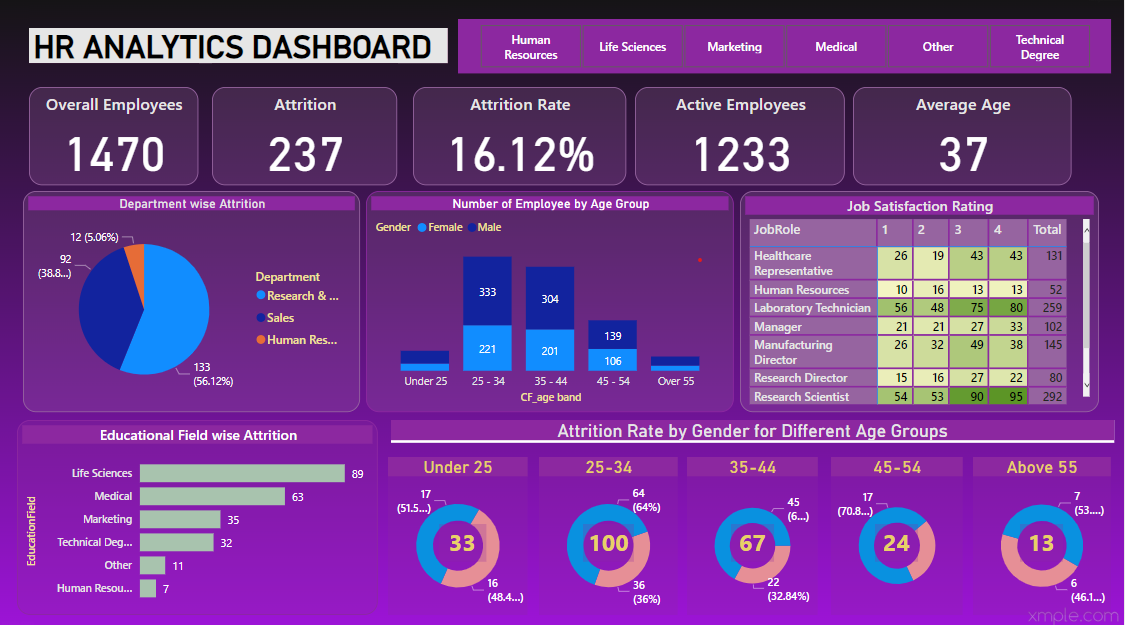

The page's visual inventory and layout, read from the dashboard file:
{"tool":"powerbi","page":{"name":"Page 1","canvas":[1280,720],"ordinal":0},"visuals":[{"type":"card","title":"Overall Employees","fields":{"Values":["Sum(WA_Fn-UseC_-HR-Employee-Attriti.EmployeeCount)"]},"box":[33,104.8,192.5,111.6],"z":0},{"type":"card","title":"Attrition","fields":{"Values":["Sum(WA_Fn-UseC_-HR-Employee-Attriti.Attrition Count)"]},"box":[241.5,104.8,210.8,111.6],"z":1000},{"type":"card","title":"Attrition Rate","fields":{"Values":["WA_Fn-UseC_-HR-Employee-Attriti.Attrition Rate"]},"box":[470.5,104.8,242.7,111.6],"z":2000},{"type":"card","title":"Active Employees","fields":{"Values":["WA_Fn-UseC_-HR-Employee-Attriti.Active Employees"]},"box":[723.4,104.8,239.2,111.6],"z":3000},{"type":"card","title":"Average Age","fields":{"Values":["Avg(WA_Fn-UseC_-HR-Employee-Attriti.Age)"]},"box":[971.8,104.8,249.5,111.6],"z":4000},{"type":"pieChart","title":"Department wise Attrition","fields":{"Category":["WA_Fn-UseC_-HR-Employee-Attriti.Department"],"Y":["Sum(WA_Fn-UseC_-HR-Employee-Attriti.Attrition Count)"]},"box":[26.2,223.3,383.9,251.8],"z":5000},{"type":"columnChart","title":"Number of Employee by Age Group","fields":{"Y":["Sum(WA_Fn-UseC_-HR-Employee-Attriti.EmployeeCount)"],"Series":["WA_Fn-UseC_-HR-Employee-Attriti.Gender"],"Category":["WA_Fn-UseC_-HR-Employee-Attriti.CF_age band"]},"box":[417,223.3,419.2,251.8],"z":6000},{"type":"pivotTable","title":"Job Satisfaction Rating","fields":{"Rows":["WA_Fn-UseC_-HR-Employee-Attriti.JobRole"],"Columns":["WA_Fn-UseC_-HR-Employee-Attriti.JobSatisfaction"],"Values":["Sum(WA_Fn-UseC_-HR-Employee-Attriti.EmployeeCount)"]},"box":[843,223.3,409,251.8],"z":7000},{"type":"barChart","title":"Educational Field wise Attrition","fields":{"Category":["WA_Fn-UseC_-HR-Employee-Attriti.EducationField"],"Y":["Sum(WA_Fn-UseC_-HR-Employee-Attriti.Attrition Count)"]},"box":[19.4,484.2,411.3,222.2],"z":8000},{"type":"donutChart","title":"Under 25","fields":{"Category":["WA_Fn-UseC_-HR-Employee-Attriti.Gender"],"Y":["Sum(WA_Fn-UseC_-HR-Employee-Attriti.Attrition Count)"],"Series":["WA_Fn-UseC_-HR-Employee-Attriti.CF_age band"]},"box":[442,526.3,159.5,180],"z":9000},{"type":"textbox","title":"Attrition Rate by Gender for Different Age Groups","box":[445.4,484.2,823.7,26.2],"z":10000},{"type":"donutChart","title":"25-34","fields":{"Category":["WA_Fn-UseC_-HR-Employee-Attriti.Gender"],"Y":["Sum(WA_Fn-UseC_-HR-Employee-Attriti.Attrition Count)"],"Series":["WA_Fn-UseC_-HR-Employee-Attriti.CF_age band"]},"box":[614.1,526.3,158.4,180],"z":11000},{"type":"donutChart","title":"35-44","fields":{"Category":["WA_Fn-UseC_-HR-Employee-Attriti.Gender"],"Y":["Sum(WA_Fn-UseC_-HR-Employee-Attriti.Attrition Count)"],"Series":["WA_Fn-UseC_-HR-Employee-Attriti.CF_age band"]},"box":[782.7,526.3,149.2,180],"z":12000},{"type":"donutChart","title":"45-54","fields":{"Category":["WA_Fn-UseC_-HR-Employee-Attriti.Gender"],"Y":["Sum(WA_Fn-UseC_-HR-Employee-Attriti.Attrition Count)"],"Series":["WA_Fn-UseC_-HR-Employee-Attriti.CF_age band"]},"box":[946.7,526.3,150.4,180],"z":13000},{"type":"donutChart","title":"Above 55","fields":{"Category":["WA_Fn-UseC_-HR-Employee-Attriti.Gender"],"Y":["Sum(WA_Fn-UseC_-HR-Employee-Attriti.Attrition Count)"],"Series":["WA_Fn-UseC_-HR-Employee-Attriti.CF_age band"]},"box":[1108.5,526.3,157.2,180],"z":14000},{"type":"card","fields":{"Values":["Sum(WA_Fn-UseC_-HR-Employee-Attriti.Attrition Count)"]},"box":[500.1,602.7,53.5,43.3],"z":15000},{"type":"card","fields":{"Values":["Sum(WA_Fn-UseC_-HR-Employee-Attriti.Attrition Count)"]},"box":[664.2,602.7,58.1,43.3],"z":16000},{"type":"card","fields":{"Values":["Sum(WA_Fn-UseC_-HR-Employee-Attriti.Attrition Count)"]},"box":[832.8,602.7,49,43.3],"z":17000},{"type":"card","fields":{"Values":["Sum(WA_Fn-UseC_-HR-Employee-Attriti.Attrition Count)"]},"box":[996.8,602.7,49,43.3],"z":18000},{"type":"card","fields":{"Values":["Sum(WA_Fn-UseC_-HR-Employee-Attriti.Attrition Count)"]},"box":[1162,602.7,49,43.3],"z":19000},{"type":"textbox","title":"HR ANALYTICS DASHBOARD","box":[33,37.6,477.3,39.9],"z":20000},{"type":"slicer","fields":{"Values":["WA_Fn-UseC_-HR-Employee-Attriti.EducationField"]},"box":[521.8,27.3,743.9,61.5],"z":21000}]}

Visuals, with their boxes in screenshot pixels (x1, y1, x2, y2), scaled from the page's 1280x720 canvas onto the 1125x625 screenshot:
"Overall Employees" card: [29,91,198,188]
"Attrition" card: [212,91,398,188]
"Attrition Rate" card: [414,91,627,188]
"Active Employees" card: [636,91,846,188]
"Average Age" card: [854,91,1073,188]
"Department wise Attrition" pieChart: [23,194,360,412]
"Number of Employee by Age Group" columnChart: [367,194,735,412]
"Job Satisfaction Rating" pivotTable: [741,194,1100,412]
"Educational Field wise Attrition" barChart: [17,420,379,613]
"Under 25" donutChart: [388,457,529,613]
"Attrition Rate by Gender for Different Age Groups" textbox: [391,420,1115,443]
"25-34" donutChart: [540,457,679,613]
"35-44" donutChart: [688,457,819,613]
"45-54" donutChart: [832,457,964,613]
"Above 55" donutChart: [974,457,1112,613]
card - Sum(WA_Fn-UseC_-HR-Employee-Attriti.Attrition Count): [440,523,487,561]
card - Sum(WA_Fn-UseC_-HR-Employee-Attriti.Attrition Count): [584,523,635,561]
card - Sum(WA_Fn-UseC_-HR-Employee-Attriti.Attrition Count): [732,523,775,561]
card - Sum(WA_Fn-UseC_-HR-Employee-Attriti.Attrition Count): [876,523,919,561]
card - Sum(WA_Fn-UseC_-HR-Employee-Attriti.Attrition Count): [1021,523,1064,561]
"HR ANALYTICS DASHBOARD" textbox: [29,33,449,67]
slicer - WA_Fn-UseC_-HR-Employee-Attriti.EducationField: [459,24,1112,77]
